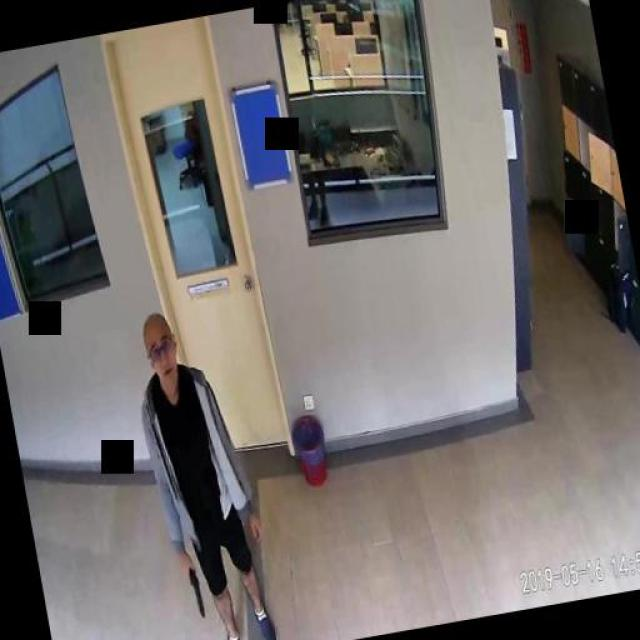gun: (181, 559, 204, 616)
